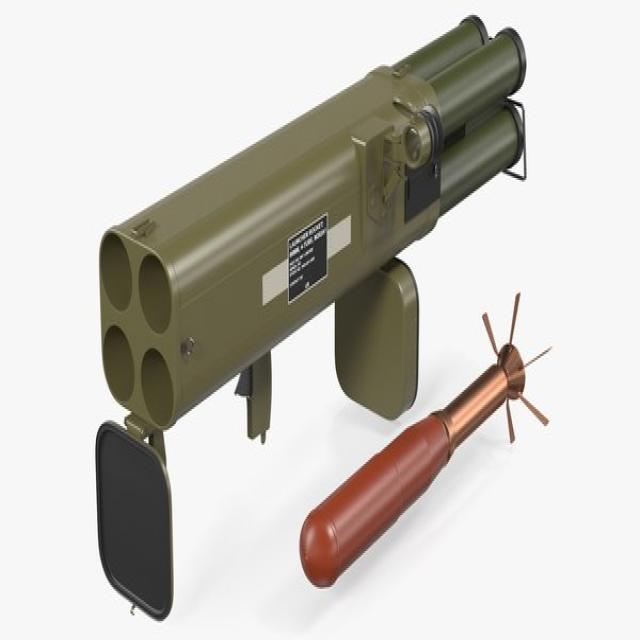bazooka: (81, 1, 560, 498)
